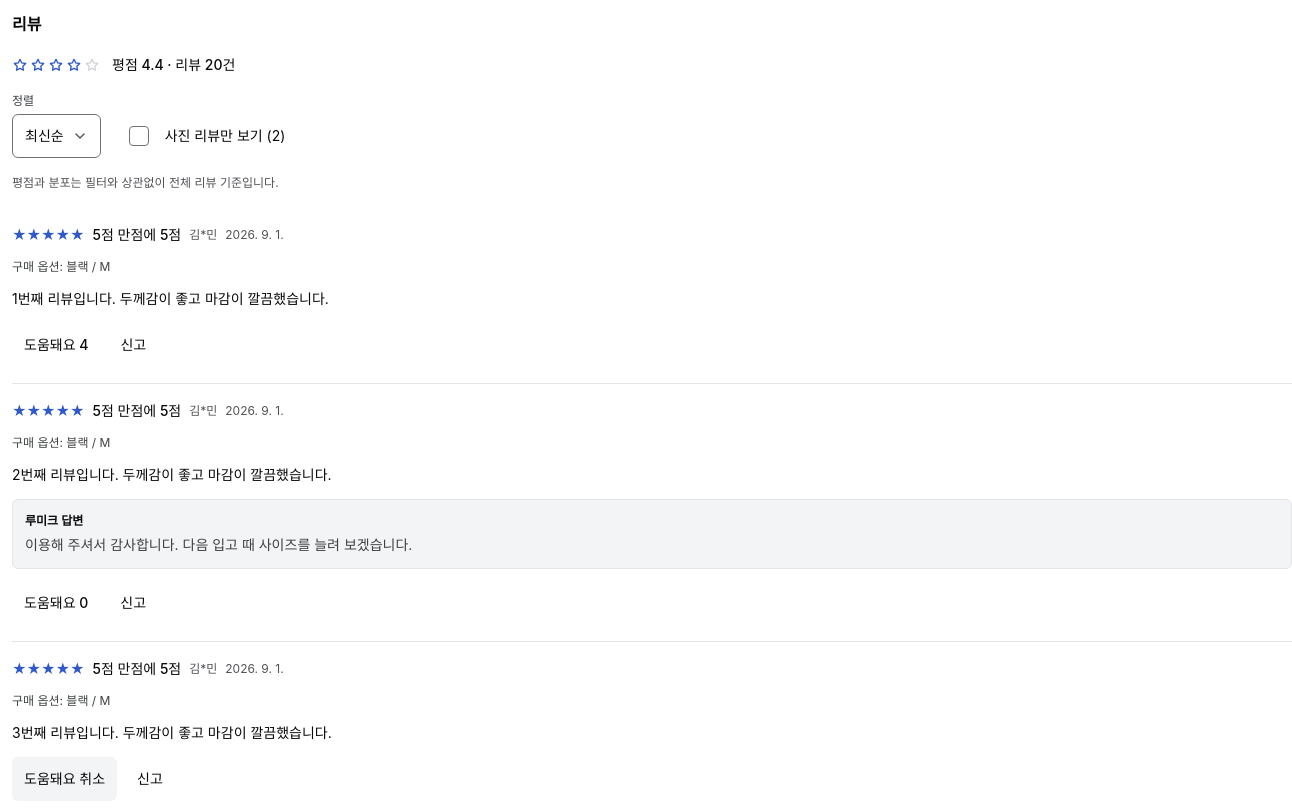
Test: F6 사진 필터 · 정렬 — 무엇을 물었나 › says so when the filter empties the list
Click the checkbox at (139,136), box left=117, top=114, right=161, bottom=158
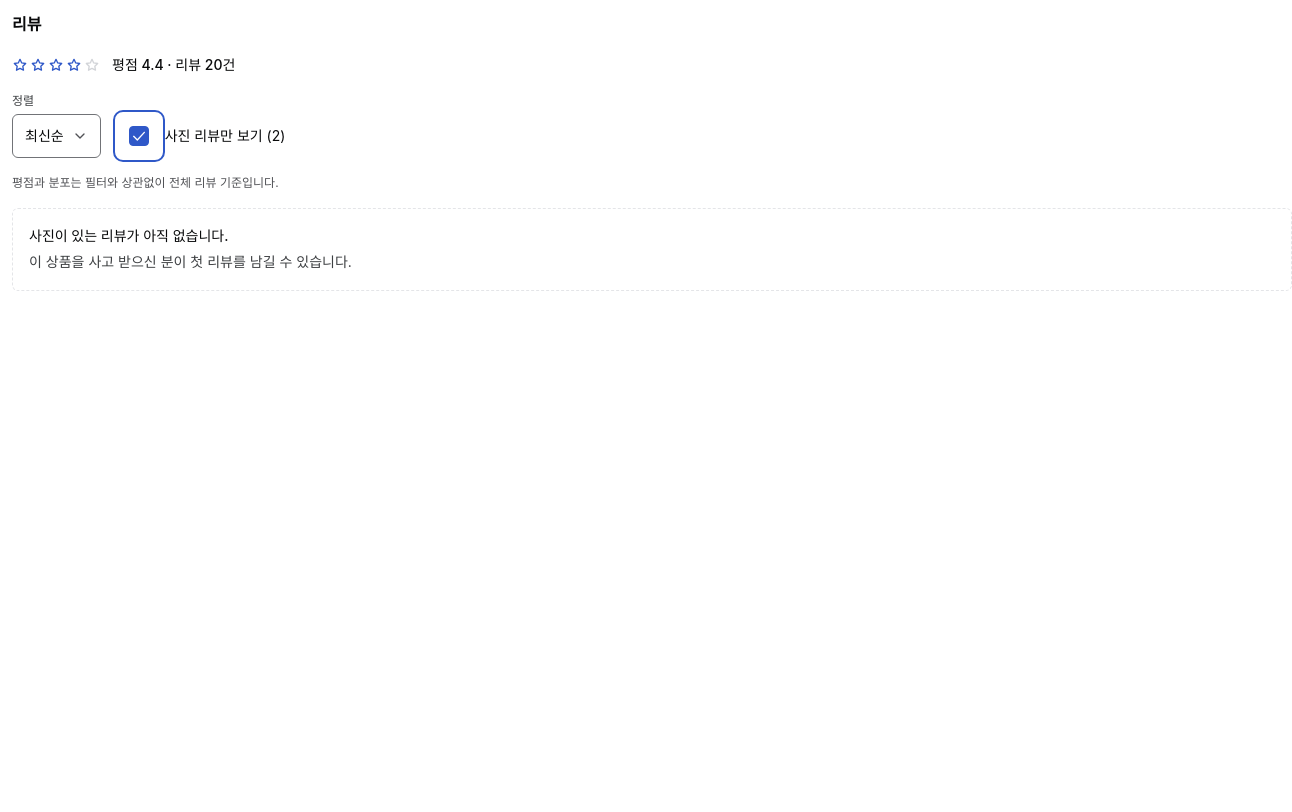
Expected: the text "사진이 있는 리뷰가 아직 없습니다." is shown, left=29, top=227, right=228, bottom=244
